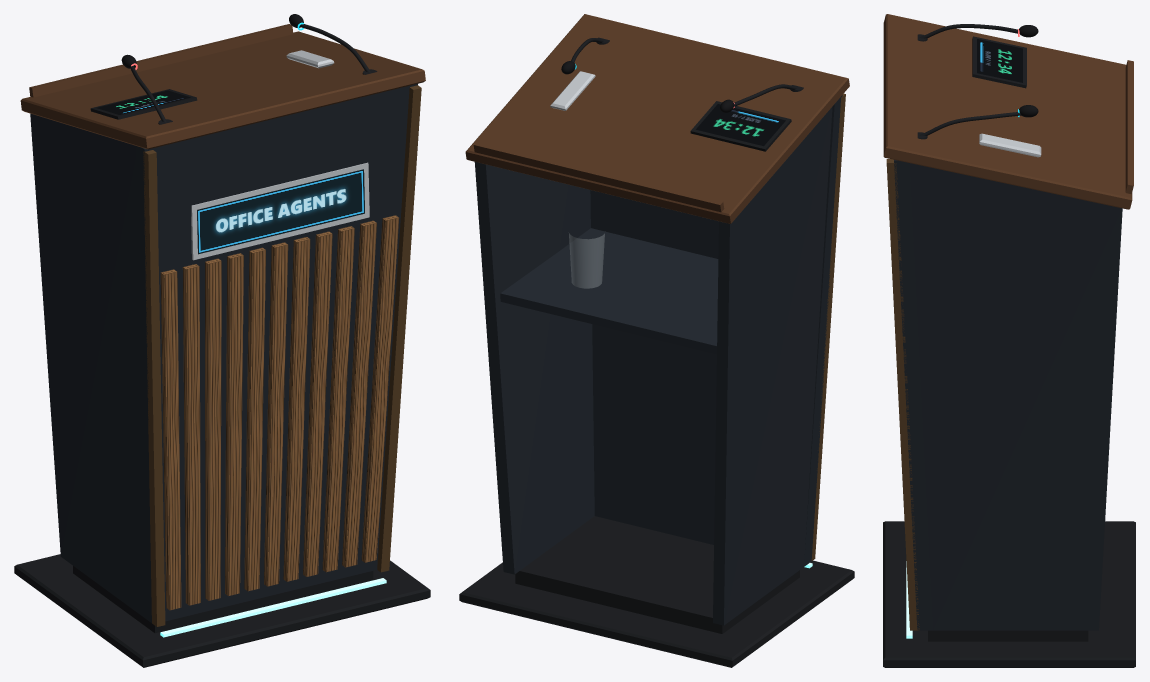
File: Office_Workshop_Lectern_Podium.glb
3 renders of one model, left to right at view 1: azimuth 30°, elevation 25°; view 2: azimuth 150°, elevation 25°; view 3: azimuth 270°, elevation 25°, orthographic. The views are drawn at different scales.
Parts seen in each view (by area): view 1: Body_Front_Panel, Body_Side_L, Walnut_Reading_Top, Steel_Plinth, Plaque_Acrylic_Face, Bronze_Trim_L, Bronze_Trim_R, Walnut_Slat_11, Walnut_Slat_10, Walnut_Slat_9, Walnut_Slat_8, Walnut_Slat_7 (+12 smaller); view 2: Body_Side_L, Walnut_Reading_Top, Body_Side_R, Body_Front_Panel, Presenter_Shelf, Body_Toe_Kick, Steel_Plinth, Document_Retention_Lip, Bronze_Trim_L, Timer_Touch_Display, Water_Tumbler, Timer_Bezel (+1 smaller); view 3: Body_Side_R, Walnut_Reading_Top, Steel_Plinth, Body_Front_Panel, Bronze_Trim_R, Body_Toe_Kick, Timer_Touch_Display, Document_Retention_Lip, Presentation_Remote, Timer_Bezel, Gooseneck_1, Gooseneck_0.
Boxes of the visible parts, <box> form: Body_Front_Panel: <box>136,83,417,622</box>; Body_Side_L: <box>30,113,145,617</box>; Walnut_Reading_Top: <box>20,31,425,149</box>; Steel_Plinth: <box>14,554,430,667</box>; Plaque_Acrylic_Face: <box>197,169,364,254</box>; Bronze_Trim_L: <box>143,150,165,626</box>; Bronze_Trim_R: <box>377,85,421,572</box>; Walnut_Slat_11: <box>361,215,399,562</box>; Walnut_Slat_10: <box>342,220,376,567</box>; Walnut_Slat_9: <box>322,226,354,572</box>; Walnut_Slat_8: <box>303,231,332,576</box>; Walnut_Slat_7: <box>283,237,310,581</box>; Body_Side_L: <box>713,106,832,625</box>; Walnut_Reading_Top: <box>465,14,849,223</box>; Body_Side_R: <box>474,162,594,574</box>; Body_Front_Panel: <box>590,95,842,566</box>; Presenter_Shelf: <box>500,228,718,354</box>; Body_Toe_Kick: <box>515,516,799,633</box>; Steel_Plinth: <box>459,560,854,667</box>; Document_Retention_Lip: <box>473,141,724,212</box>; Bronze_Trim_L: <box>811,93,845,560</box>; Timer_Touch_Display: <box>696,104,785,146</box>; Water_Tumbler: <box>569,233,604,288</box>; Timer_Bezel: <box>690,101,791,151</box>; Body_Side_R: <box>910,163,1122,630</box>; Walnut_Reading_Top: <box>883,14,1132,209</box>; Steel_Plinth: <box>883,521,1135,667</box>; Body_Front_Panel: <box>894,160,932,630</box>; Bronze_Trim_R: <box>886,159,919,630</box>; Body_Toe_Kick: <box>928,630,1088,641</box>; Timer_Touch_Display: <box>977,39,1022,82</box>; Document_Retention_Lip: <box>1125,60,1133,194</box>; Presentation_Remote: <box>979,133,1041,157</box>; Timer_Bezel: <box>972,36,1026,88</box>; Gooseneck_1: <box>920,112,1021,135</box>; Gooseneck_0: <box>920,24,1017,38</box>.
Size of the model in its own units: 0.62 by 1.12 by 0.48.
Materials: 13 (3 with a texture image).
